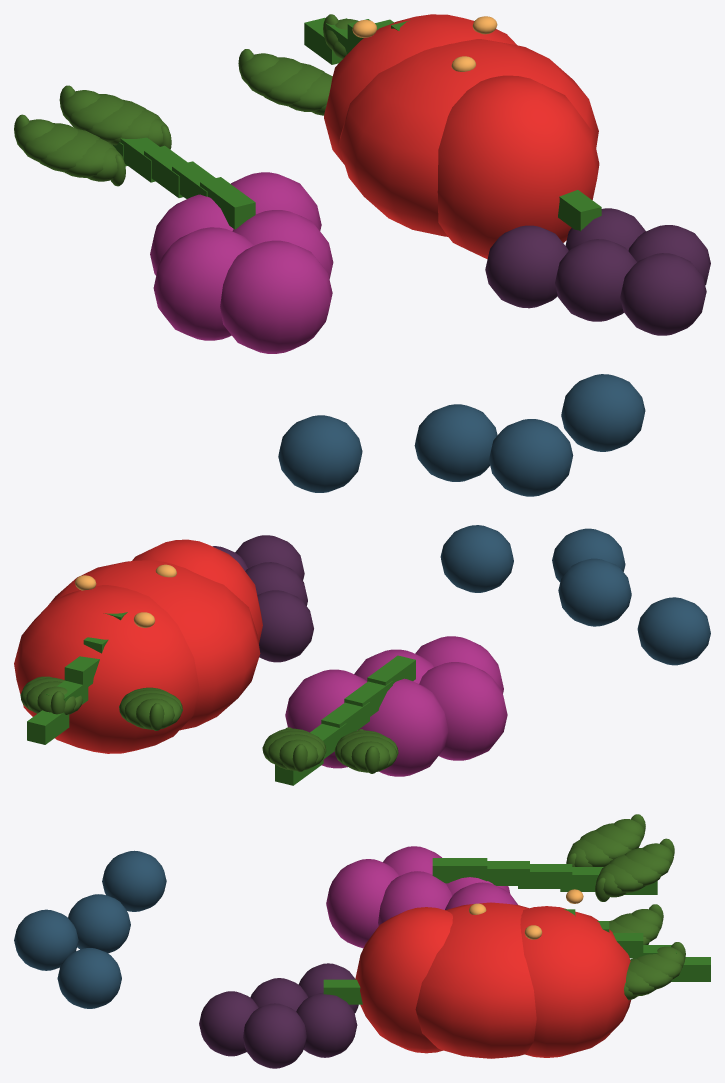
The model's file is CMU3DMixedBerries.glb.
3 renders of one model, top to bottom at view 1: azimuth 30°, elevation 25°; view 2: azimuth 150°, elevation 25°; view 3: azimuth 270°, elevation 25°, orthographic. The views are drawn at different scales.
Visible parts, largest first — view 1: red strawberry (×3), raspberry drupelet (×5), loose blueberry (×4), dark berry drupelet (×5), berry leaf (×8), berry green stalk (×6); view 2: red strawberry (×3), raspberry drupelet (×5), loose blueberry (×4), dark berry drupelet (×3), berry green stalk (×8), berry leaf (×8); view 3: red strawberry (×3), loose blueberry (×4), dark berry drupelet (×5), raspberry drupelet (×4), berry leaf (×10), berry green stalk (×7).
Boxes of the visible parts, x1,y1,x2,y2 form: red strawberry (×3): [324, 14, 599, 259]; raspberry drupelet (×5): [150, 172, 333, 353]; loose blueberry (×4): [278, 374, 645, 496]; dark berry drupelet (×5): [485, 208, 710, 335]; berry leaf (×8): [22, 57, 332, 177]; berry green stalk (×6): [120, 17, 601, 231]; red strawberry (×3): [14, 539, 262, 753]; raspberry drupelet (×5): [285, 636, 507, 776]; loose blueberry (×4): [440, 525, 710, 665]; dark berry drupelet (×3): [235, 535, 313, 662]; berry green stalk (×8): [27, 655, 415, 785]; berry leaf (×8): [25, 681, 397, 772]; red strawberry (×3): [355, 902, 630, 1058]; loose blueberry (×4): [14, 850, 166, 1008]; dark berry drupelet (×5): [199, 963, 358, 1068]; raspberry drupelet (×4): [326, 846, 517, 948]; berry leaf (×10): [570, 823, 682, 996]; berry green stalk (×7): [323, 858, 710, 1004].
Size of the model in its own units: 0.427 by 0.141 by 0.6253.
